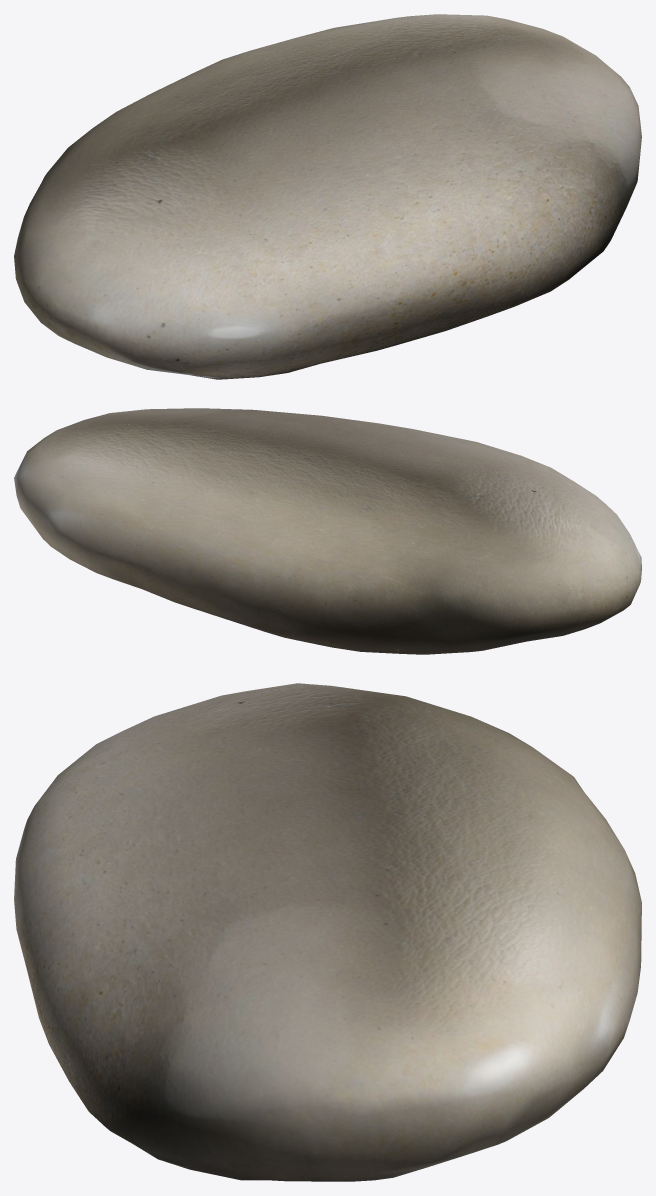
3 views of the same model, one above another, from view 1: azimuth 30°, elevation 25°; view 2: azimuth 150°, elevation 25°; view 3: azimuth 270°, elevation 25° (orthographic). The views are drawn at different scales.
Parts seen in each view (by area): view 1: Mesh1.0; view 2: Mesh1.0; view 3: Mesh1.0.
Part boxes in pixels (x1,y1,x2,y2): Mesh1.0: (14,14,641,379); Mesh1.0: (14,408,641,654); Mesh1.0: (14,683,641,1181).
Size of the model in its own units: 200 by 62.06 by 125.
1 material, 1 textured.
